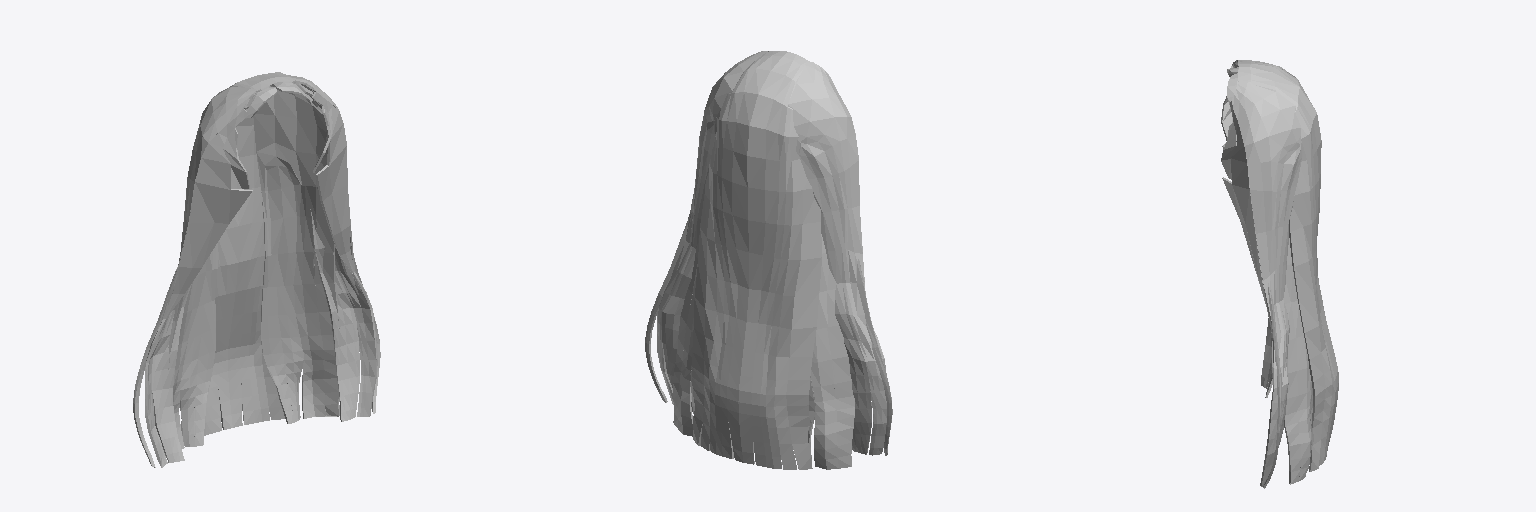
File: hair back AA2.obj
The picture shows the model from 3 angles: view 1: azimuth 30°, elevation 25°; view 2: azimuth 150°, elevation 25°; view 3: azimuth 270°, elevation 25°; orthographic projection.
Size of the model in its own units: 58.94 by 86.22 by 24.4.